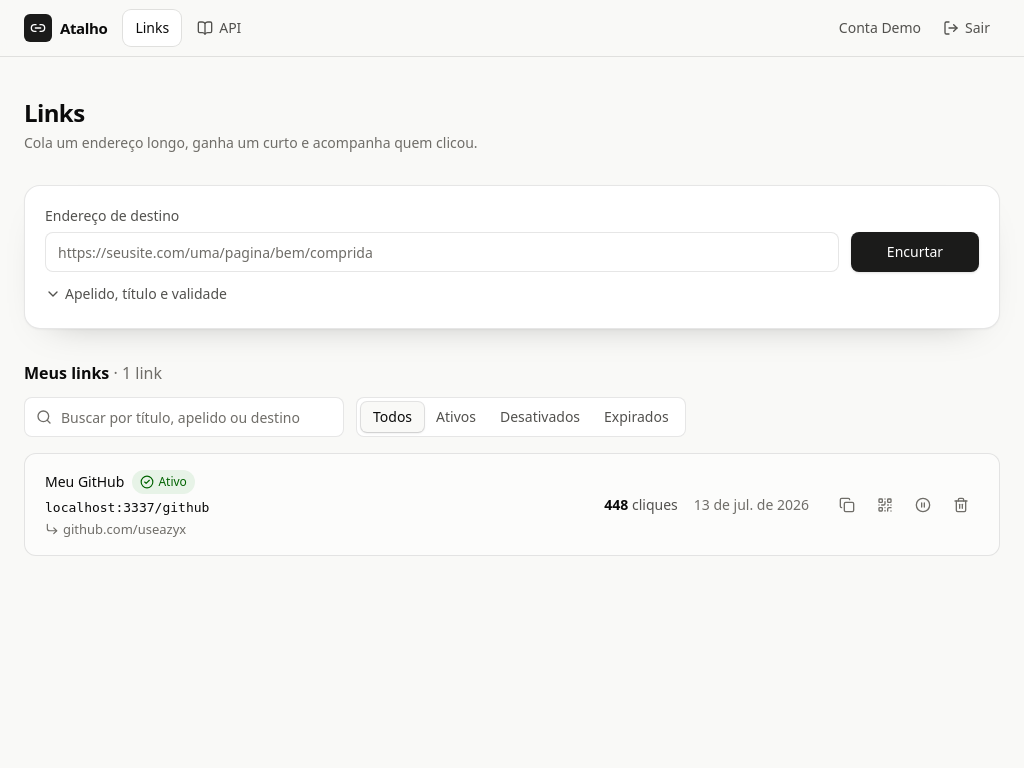
Test: links page › shortens an address pasted without protocol and shows the short link ready to copy
Type "github.com/useazyx/atalho" into the field labelled "Endereço de destino".
click(442, 252); type("github.com/useazyx/atalho")  # box [46,233,838,271]
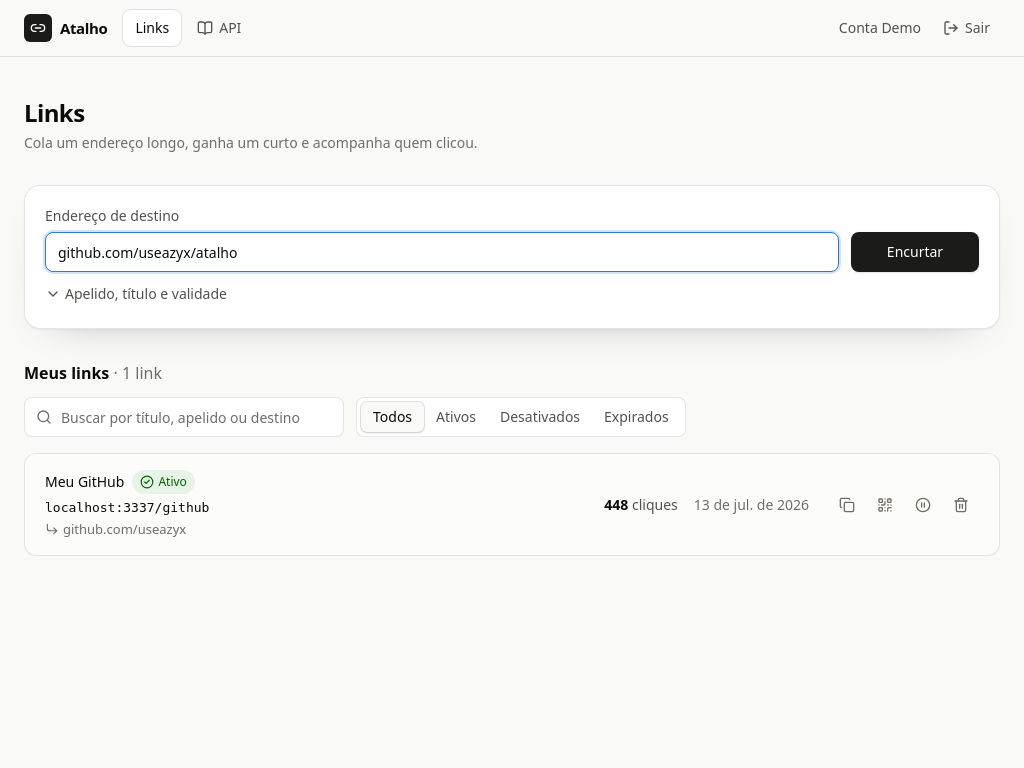
Click the button "Encurtar".
click(915, 252)  # box [851,232,979,272]
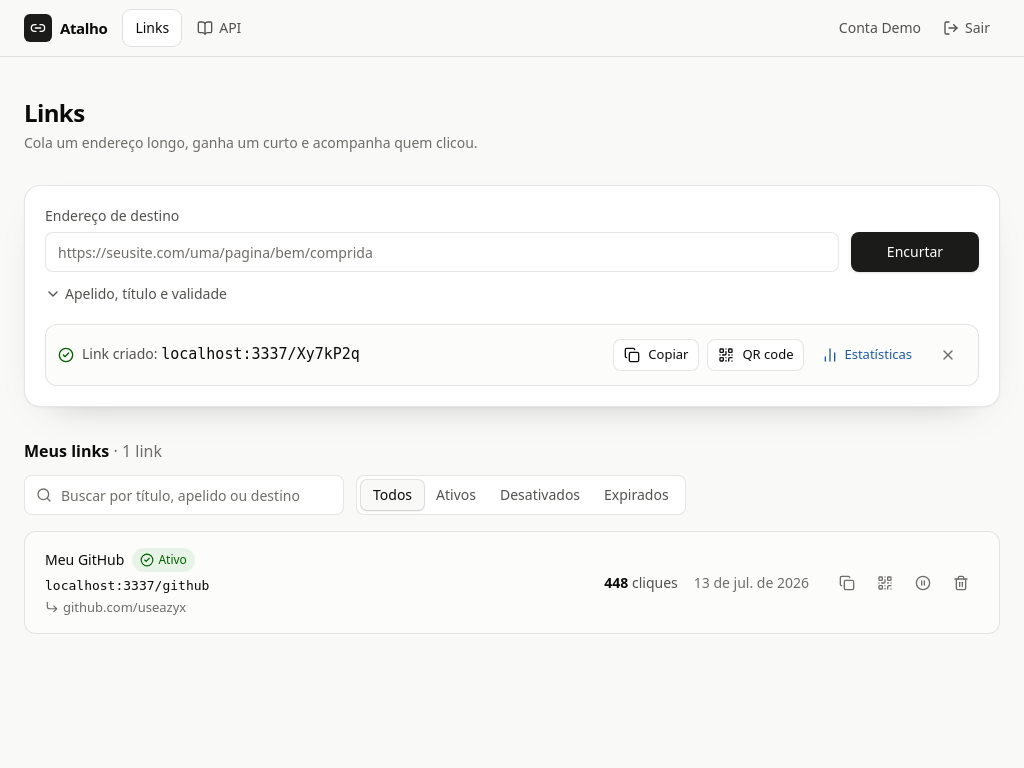
expect the text "localhost:3337/Xy7kP2q" is shown: met, box [161,345,360,363]
expect the button with aria-label "Copiar localhost:3337/Xy7kP2q" is shown: met, box [613,339,699,371]
